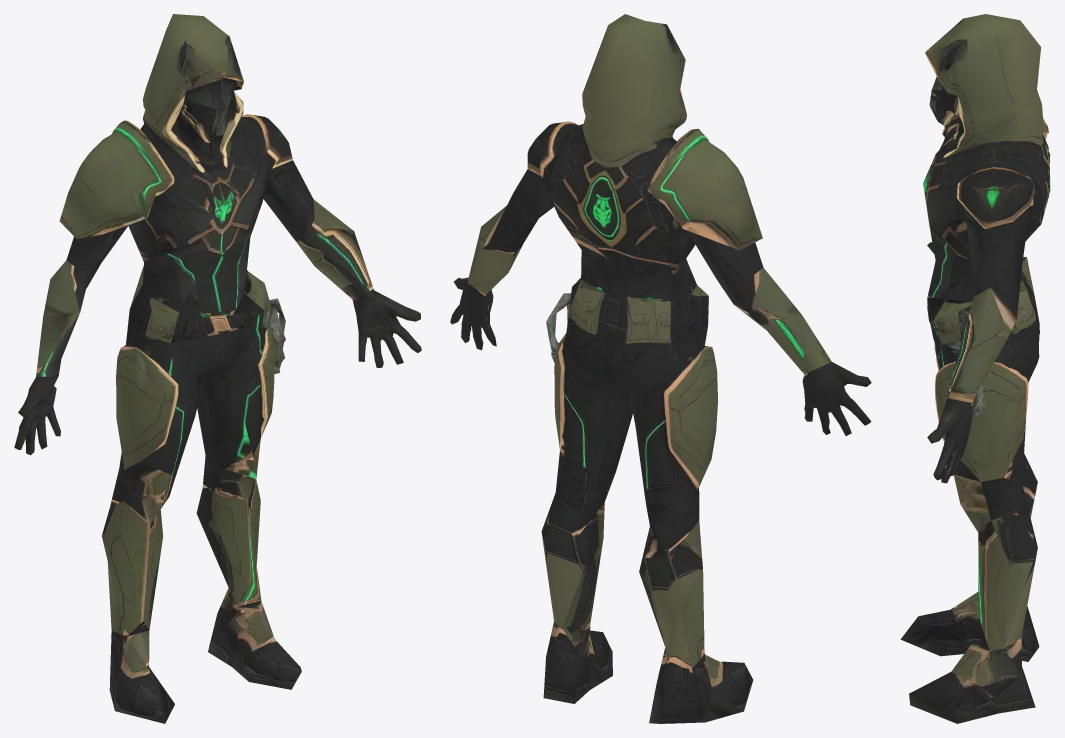
The model's file is wolf_sentinel_lod1.glb.
3 renders of one model, left to right at view 1: azimuth 30°, elevation 25°; view 2: azimuth 150°, elevation 25°; view 3: azimuth 270°, elevation 25°, orthographic. The views are drawn at different scales.
Parts seen in each view (by area): view 1: Mesh_0; view 2: Mesh_0; view 3: Mesh_0.
Part boxes in pixels (x1,y1,x2,y2): Mesh_0: (14,14,421,723); Mesh_0: (450,14,871,723); Mesh_0: (900,14,1050,723).
Size of the model in its own units: 1.24 by 1.91 by 0.3935.
1 material, 1 textured.
